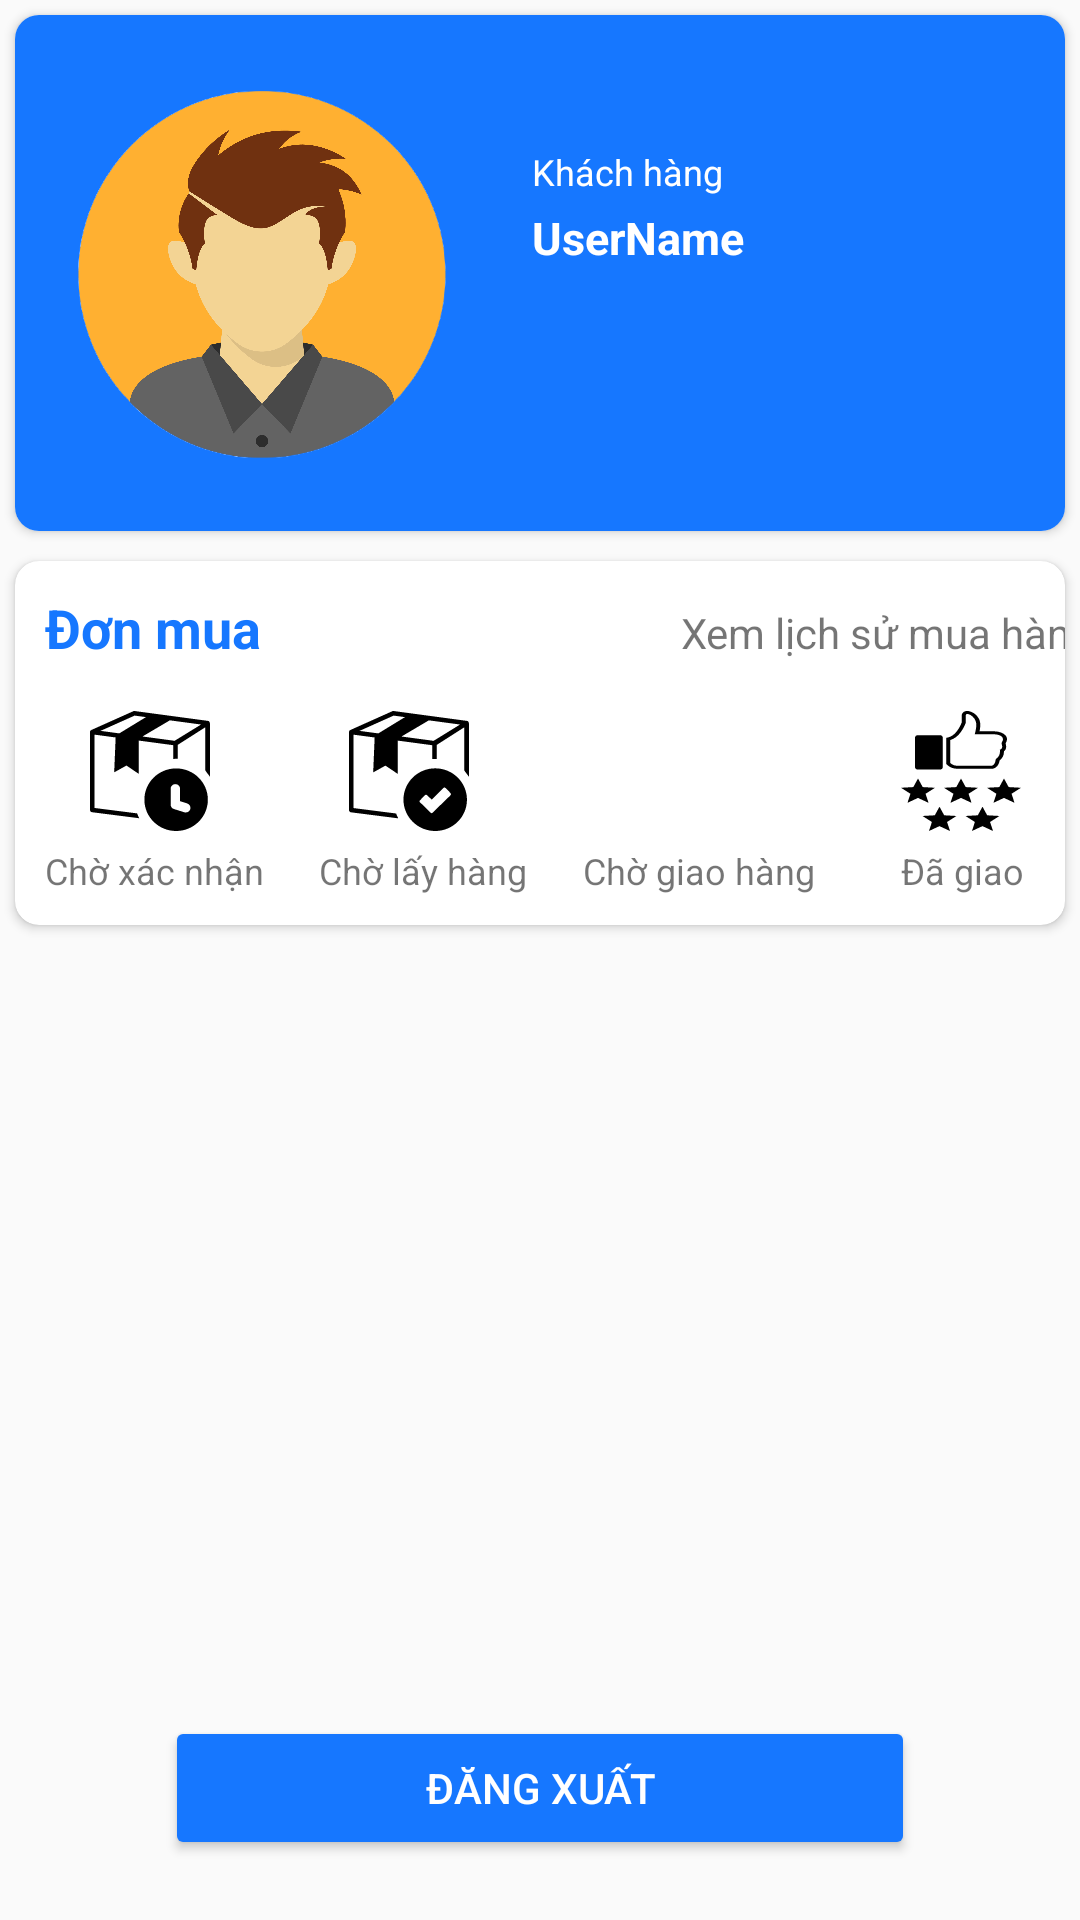

Named icons in this screenshot (1080*1920) and their bounding boxes, BBox(x1, y1, x2, y2):
five stars thumbs up: BBox(901, 711, 1021, 831)
package delivery status time: BBox(90, 711, 210, 831)
product package delivered: BBox(349, 711, 469, 831)
